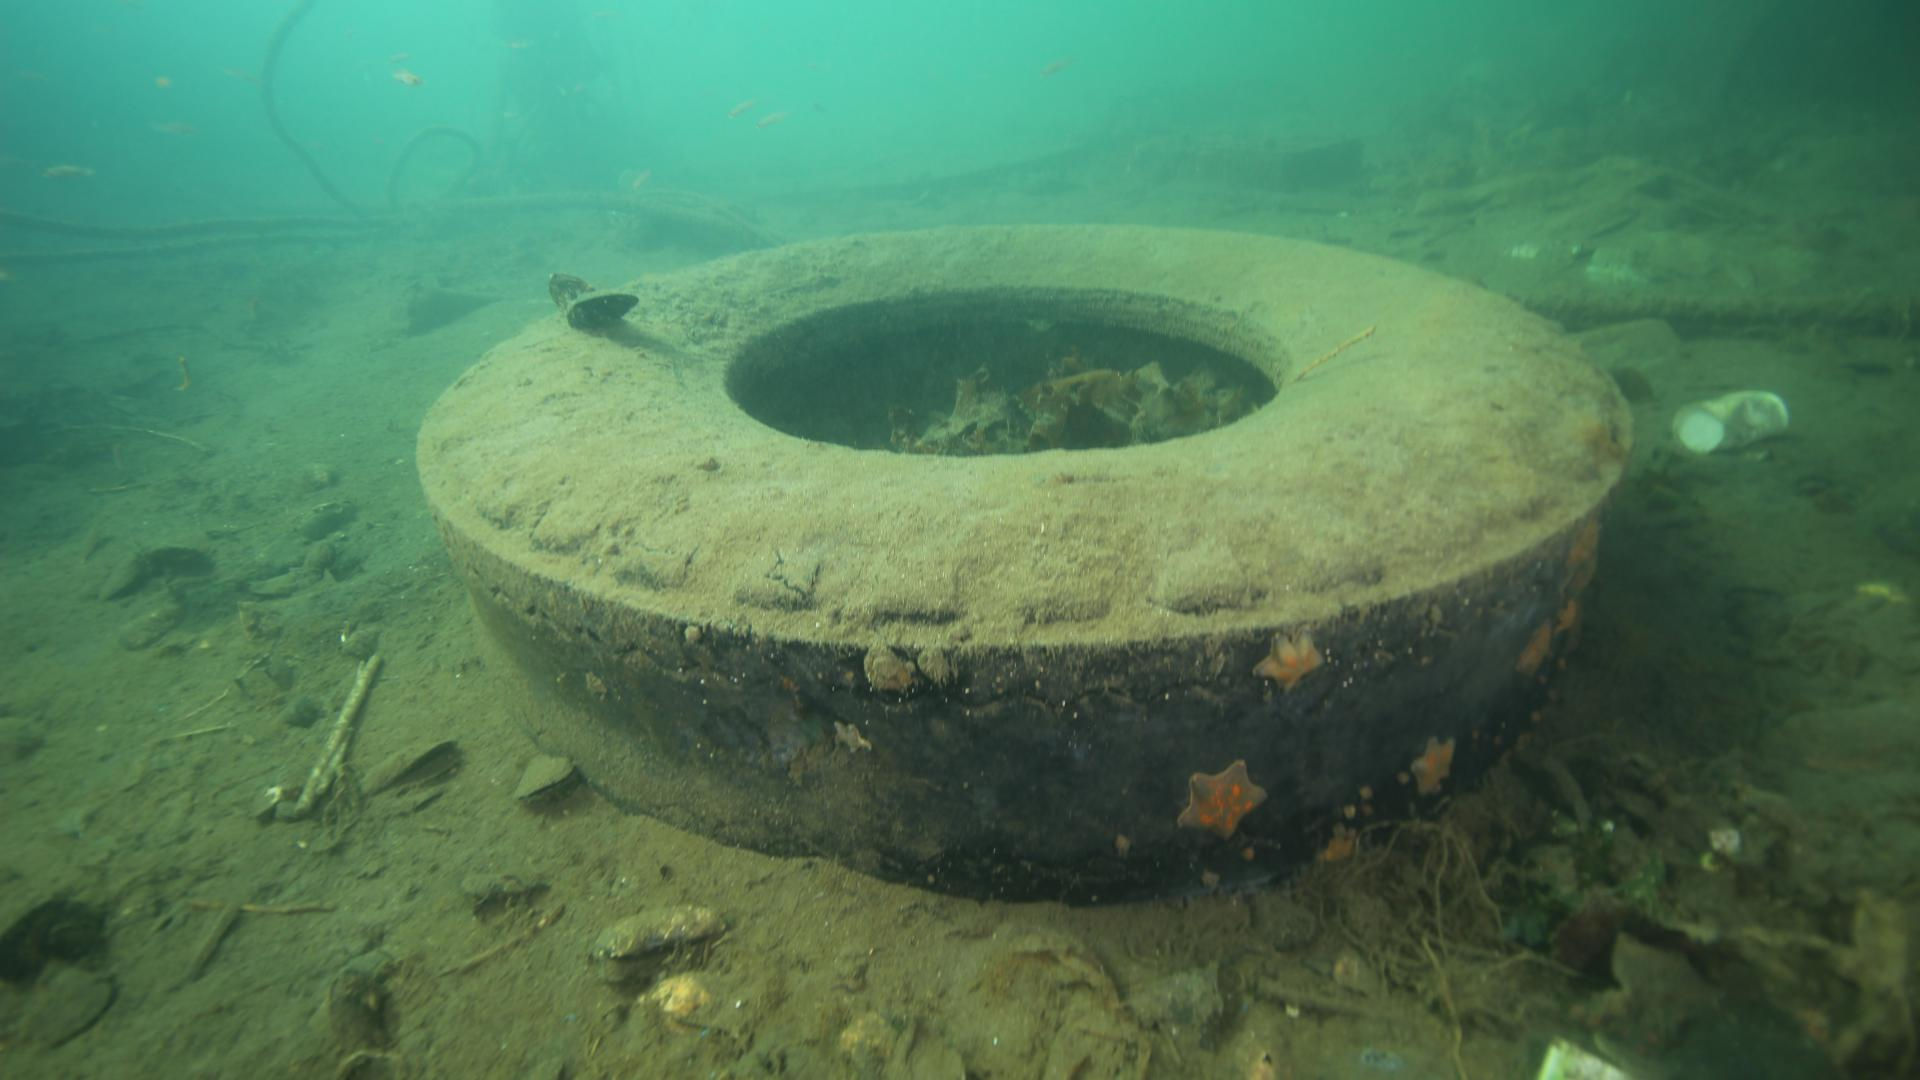bundle of ropes: (0, 0, 781, 243)
rope: (1509, 293, 1920, 332)
tire: (411, 219, 1636, 891)
